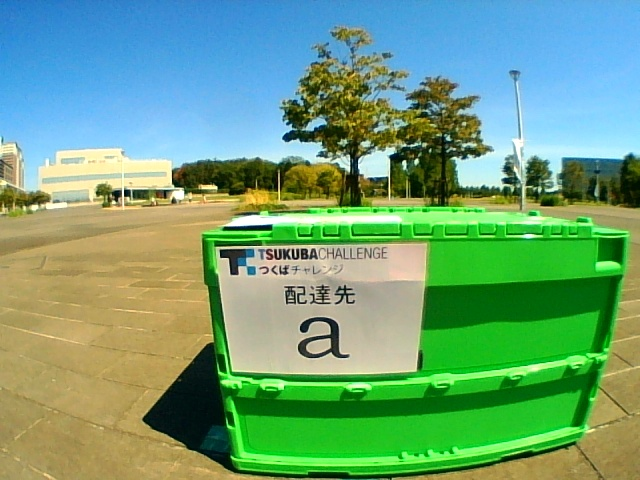green_box: (203, 207, 627, 474)
tag_a: (232, 249, 416, 372)
